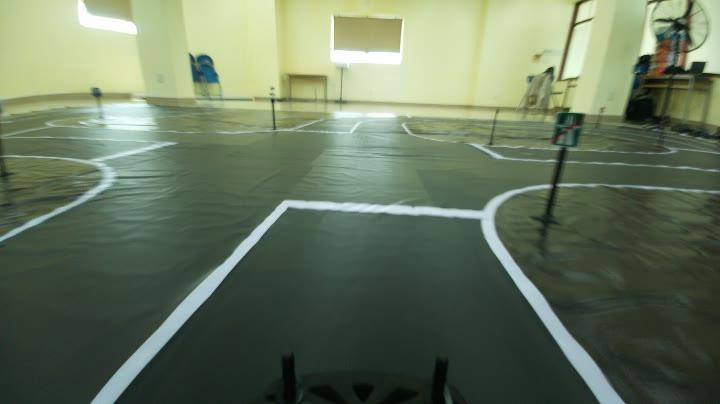highway_exit: (550, 110, 586, 151)
